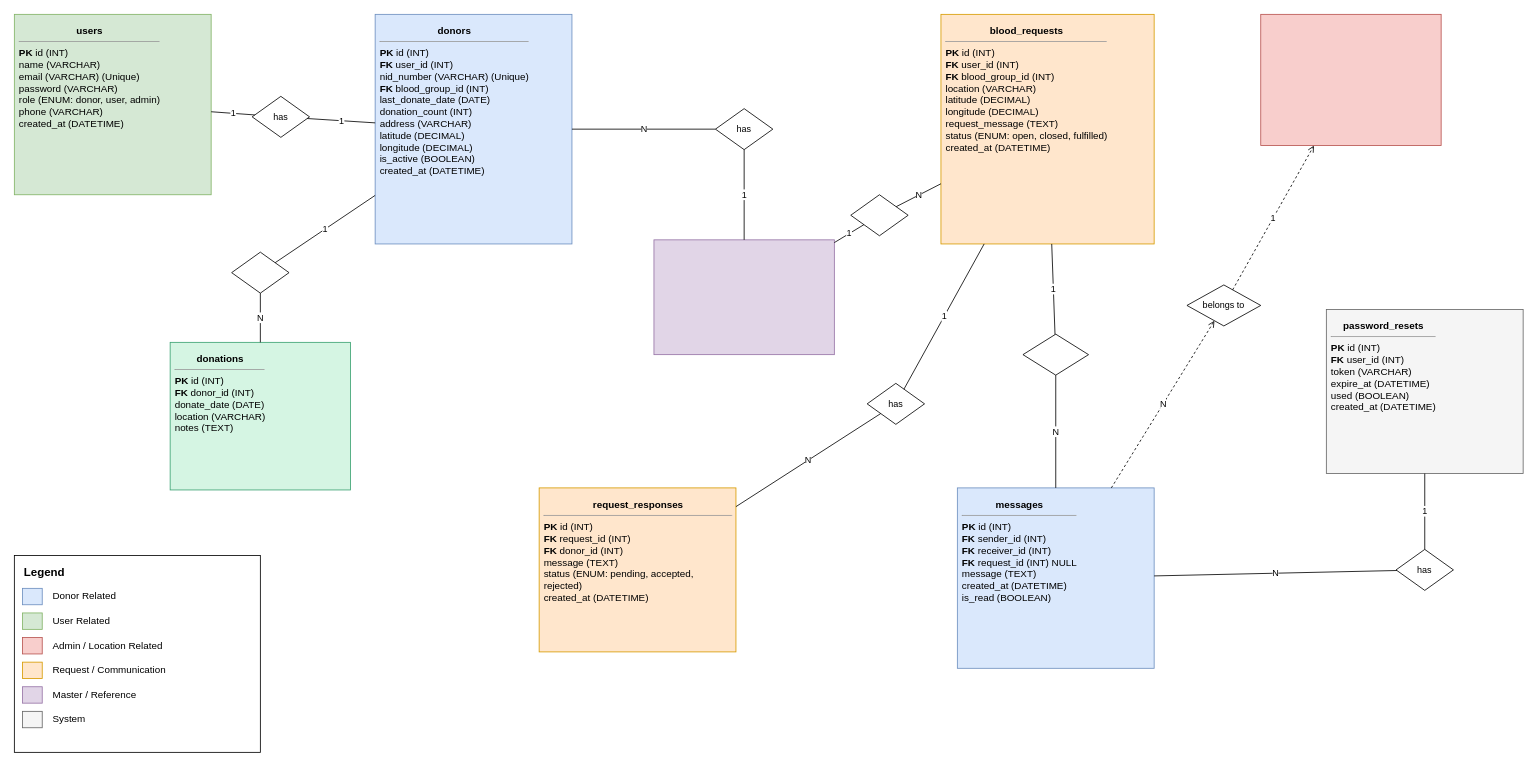
Some shapes in this 1538 by 767 pixel diagram are drawn without their labels. The shapes that lost their labels are listed below. From the top down, each one's centre as x and y in pixels, then its label:
At [1350,80]: "locations PK id (INT) name (VARCHAR) latitude (DECIMAL) longitude (DECIMAL)".
At [879,215]: "creates".
At [260,272]: "makes".
At [743,297]: "blood_groups PK id (INT) name (VARCHAR) (Unique) description (TEXT)".
At [1055,354]: "sends".
